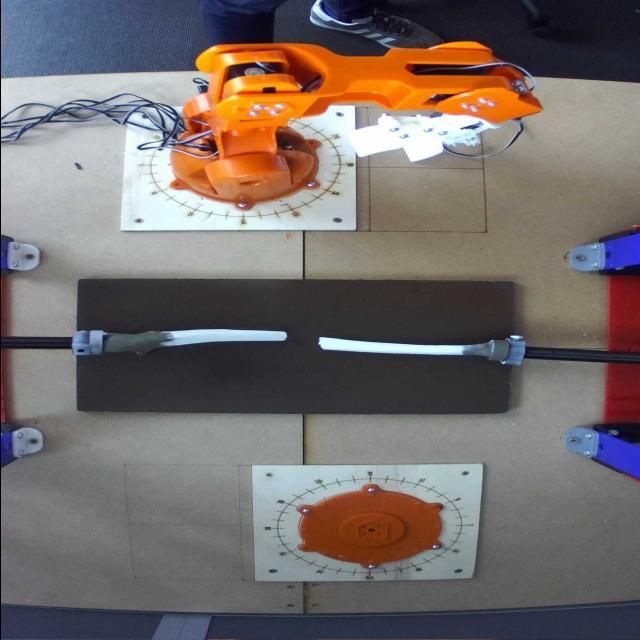bone: (100, 322, 294, 357), (312, 328, 484, 363)
